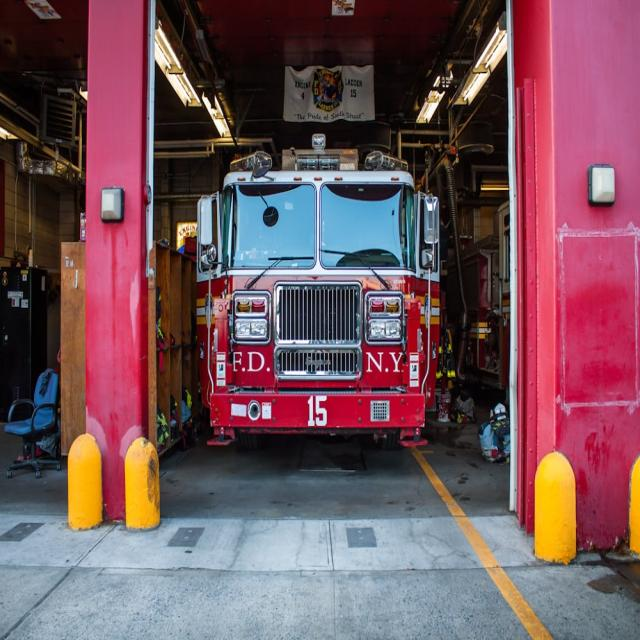emergency: (196, 133, 440, 446)
